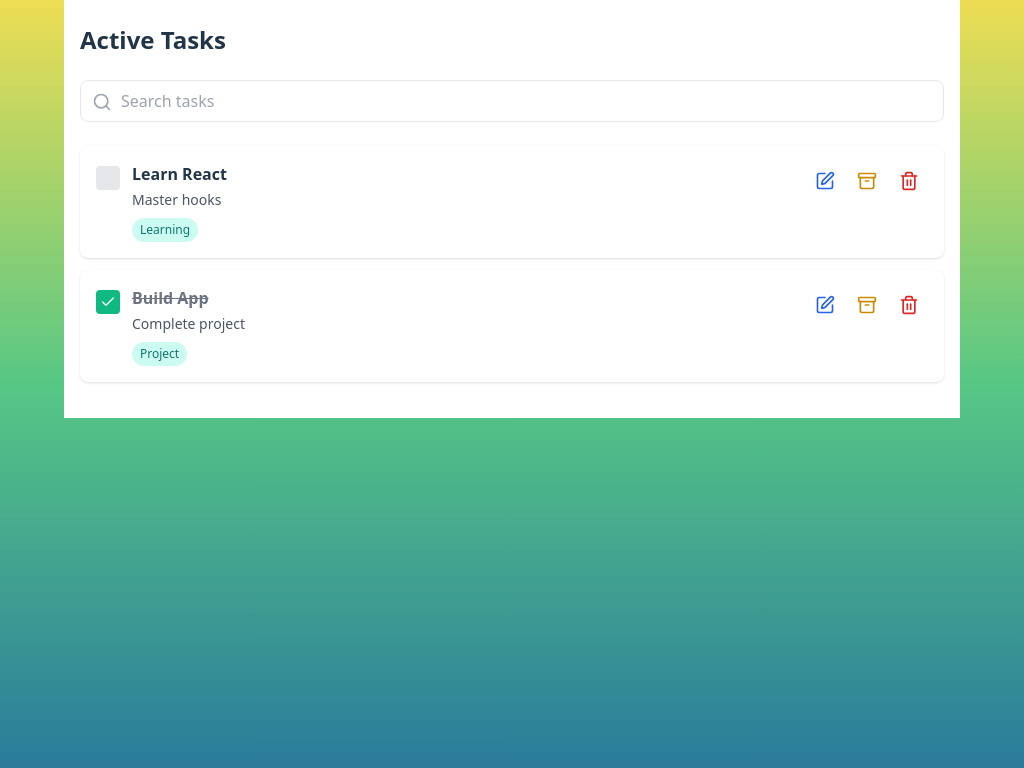
Test: Task List Integration Tests › should show confirmation modal before deletion
Click the button titled "Delete" in the row of "Learn React": (909, 181) [890,162,928,200]
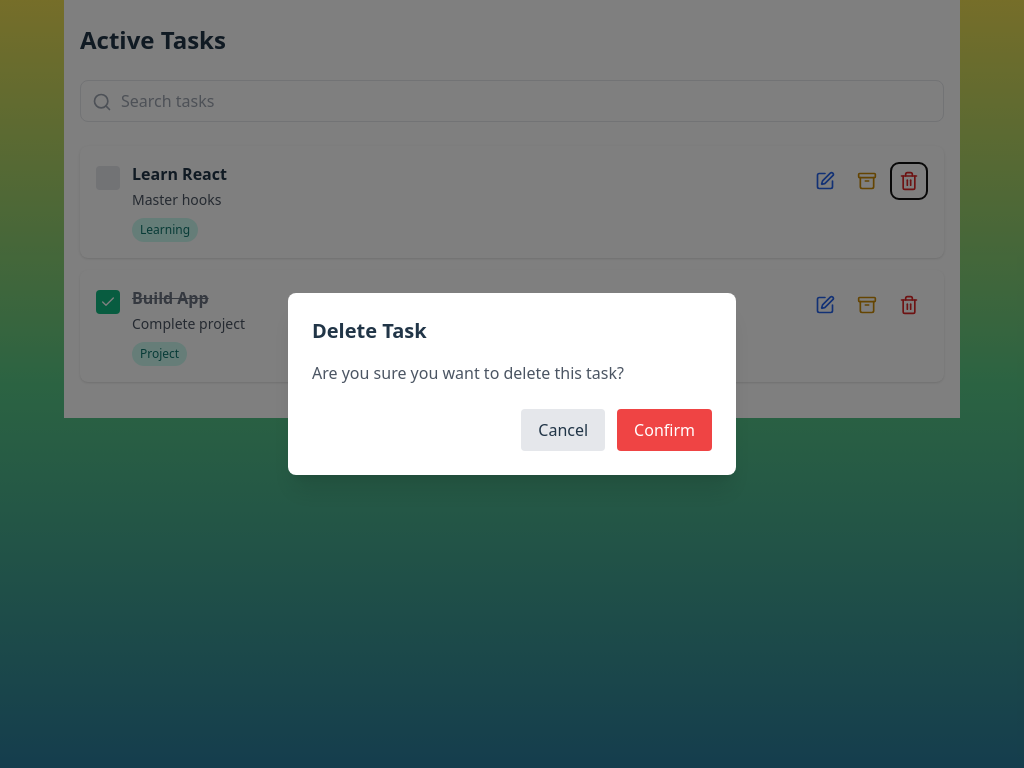
Check: the heading "Delete Task" is shown, box [312,317,427,344]
Check: the text "Are you sure you want to delete this task?" is shown, box [312,362,624,384]
